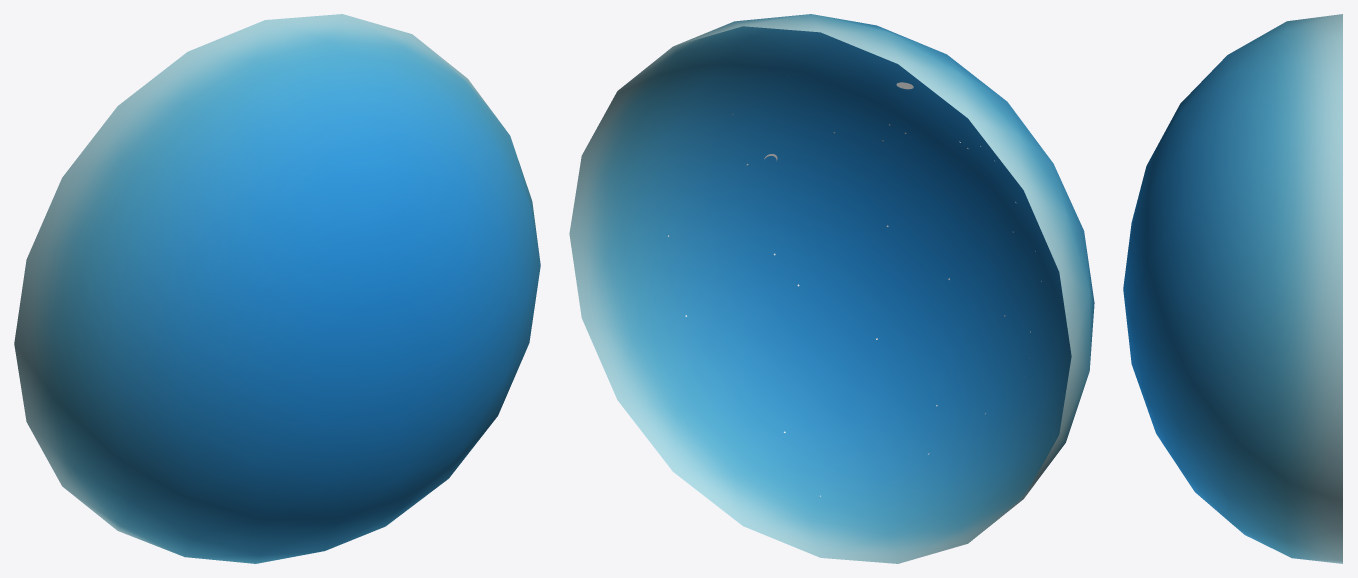
File: skydome.glb
3 renders of one model, left to right at view 1: azimuth 30°, elevation 25°; view 2: azimuth 150°, elevation 25°; view 3: azimuth 270°, elevation 25°, orthographic. The views are drawn at different scales.
Visible parts, largest first — view 1: SkyDome; view 2: SkyDome; view 3: SkyDome.
Boxes of the visible parts, x1,y1,x2,y2 form: SkyDome: (14,14,540,563); SkyDome: (569,14,1094,563); SkyDome: (1123,14,1342,563).
Size of the model in its own units: 208 by 208 by 82.76.
Materials: 1 (1 with a texture image).
